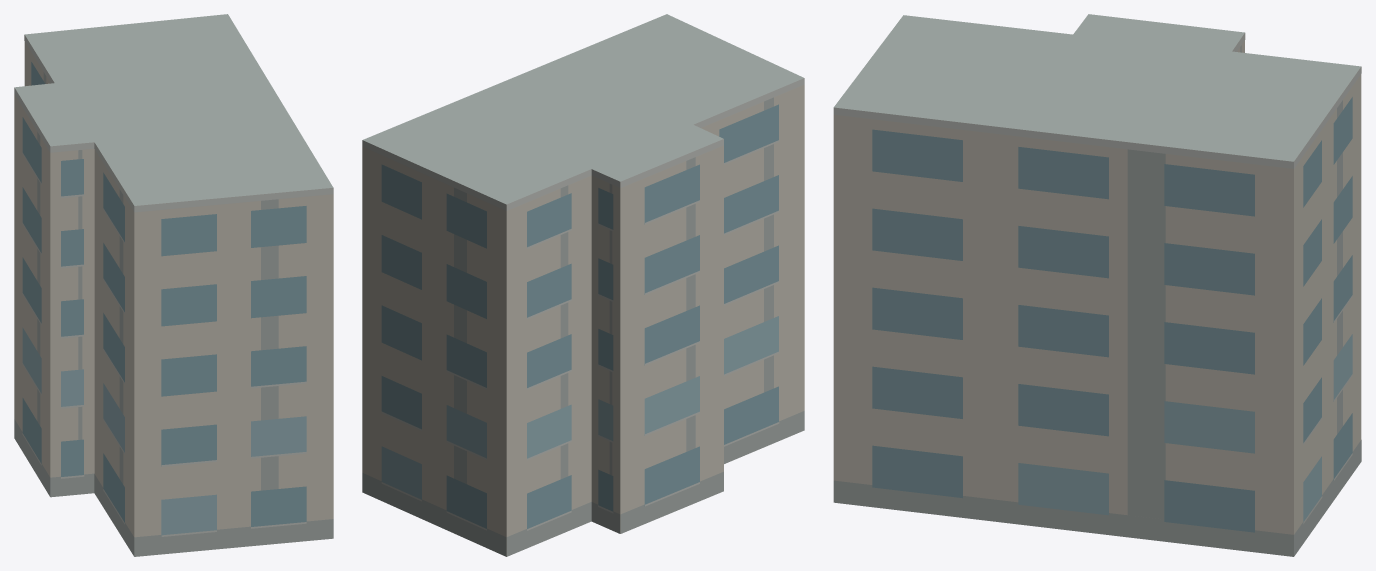
The model's file is survey-upis-32798091.glb.
The picture shows the model from 3 angles, left to right: view 1: azimuth 30°, elevation 25°; view 2: azimuth 150°, elevation 25°; view 3: azimuth 270°, elevation 25°; orthographic projection. The views are drawn at different scales.
Visible parts, largest first — view 1: survey-upis-32798091.tmp; view 2: survey-upis-32798091.tmp; view 3: survey-upis-32798091.tmp.
Boxes of the visible parts, bbox=[...] form: survey-upis-32798091.tmp: bbox=[14, 14, 333, 556]; survey-upis-32798091.tmp: bbox=[362, 14, 804, 556]; survey-upis-32798091.tmp: bbox=[833, 14, 1361, 556].
Bounding box in the file's own units: 10.67 × 13.3 × 16.11.
